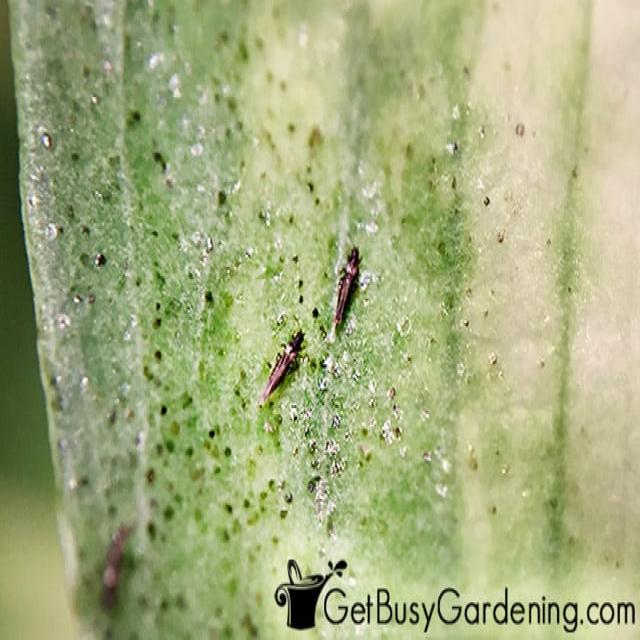Thrip-Adult-: (259, 319, 310, 401), (336, 235, 368, 337)
